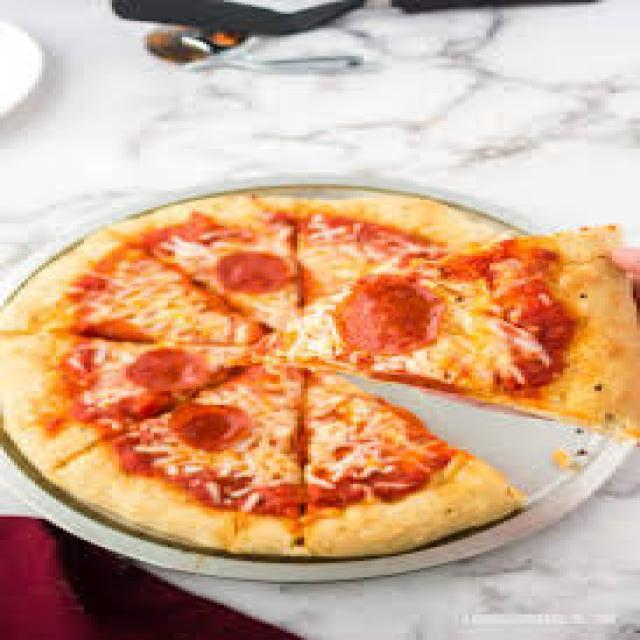pizza_full: (0, 191, 640, 567)
